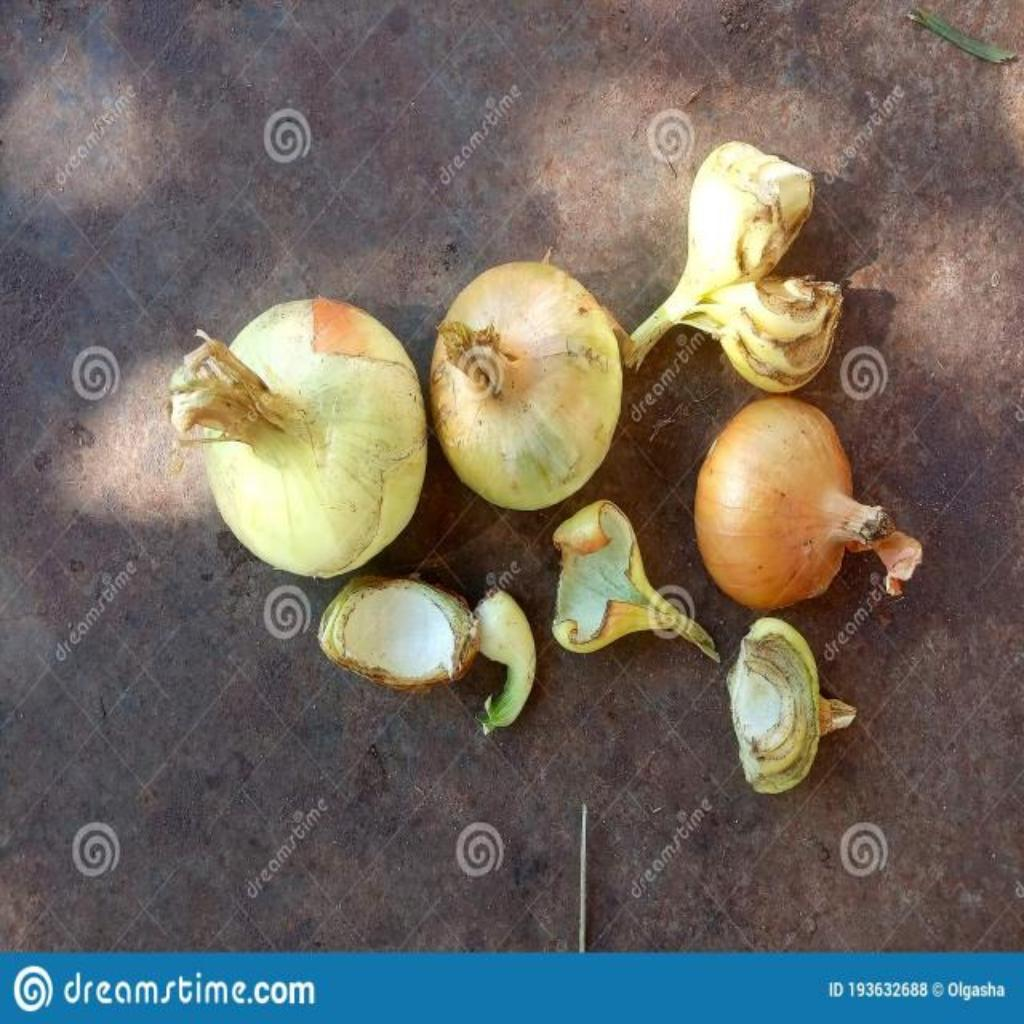Onion: (168, 298, 427, 578), (696, 397, 925, 609), (430, 262, 624, 510)
